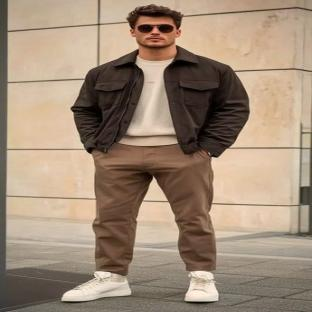Human: (61, 5, 248, 301)
